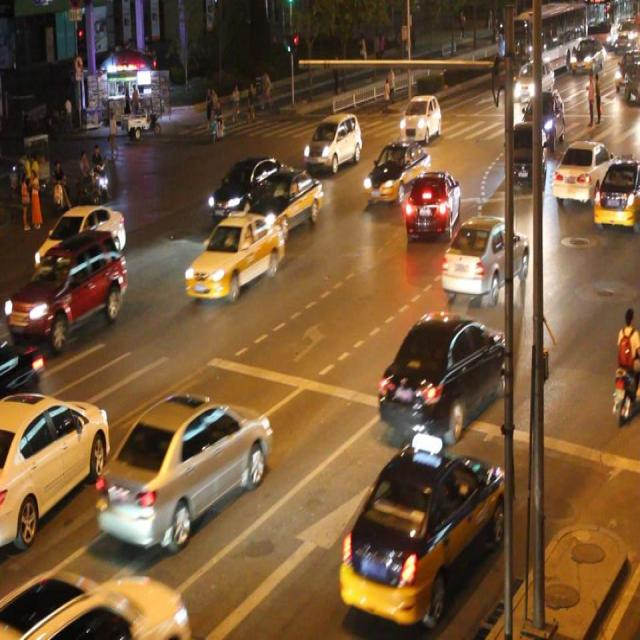car: (338, 448, 506, 622), (97, 392, 272, 546), (378, 310, 509, 438), (0, 390, 110, 524), (0, 567, 190, 640), (12, 232, 126, 346), (185, 212, 284, 300), (440, 214, 527, 299), (36, 206, 127, 276), (209, 156, 287, 226), (247, 166, 323, 236), (362, 138, 430, 201), (403, 167, 458, 241), (551, 138, 612, 200), (304, 113, 361, 171), (592, 160, 640, 228), (503, 120, 544, 184), (398, 92, 441, 141)
